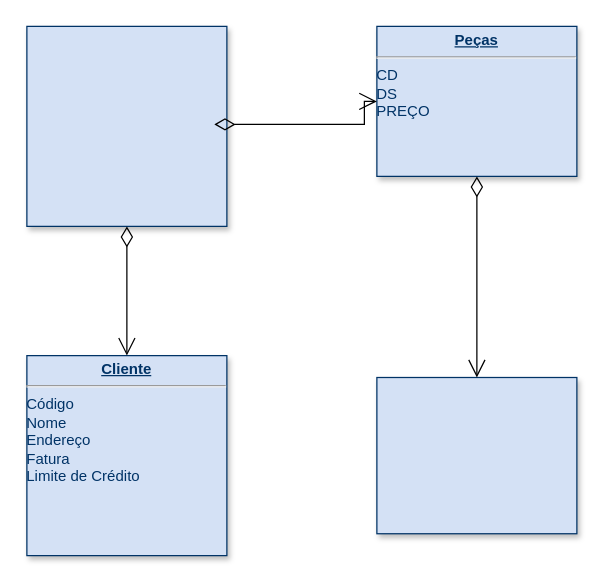
Image size: 606x588. Some labels were removed from this diagram. The centre of each missing label's shape, as x and y in pixels:
"Armazenamento CD Endereço" belongs at point 477,456.
"Vendendor Códuigo Nome Endereço" belongs at point 127,127.
